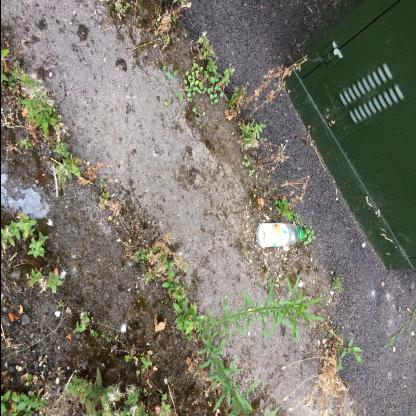plastik: (255, 222, 304, 248)
